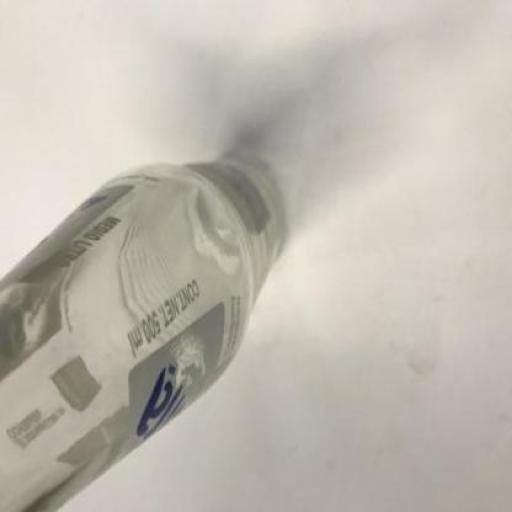glass: (2, 160, 284, 511)
